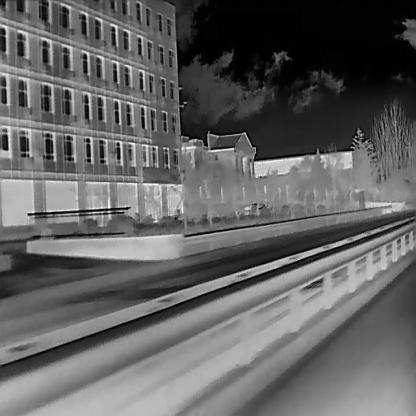car: (240, 200, 266, 214)
